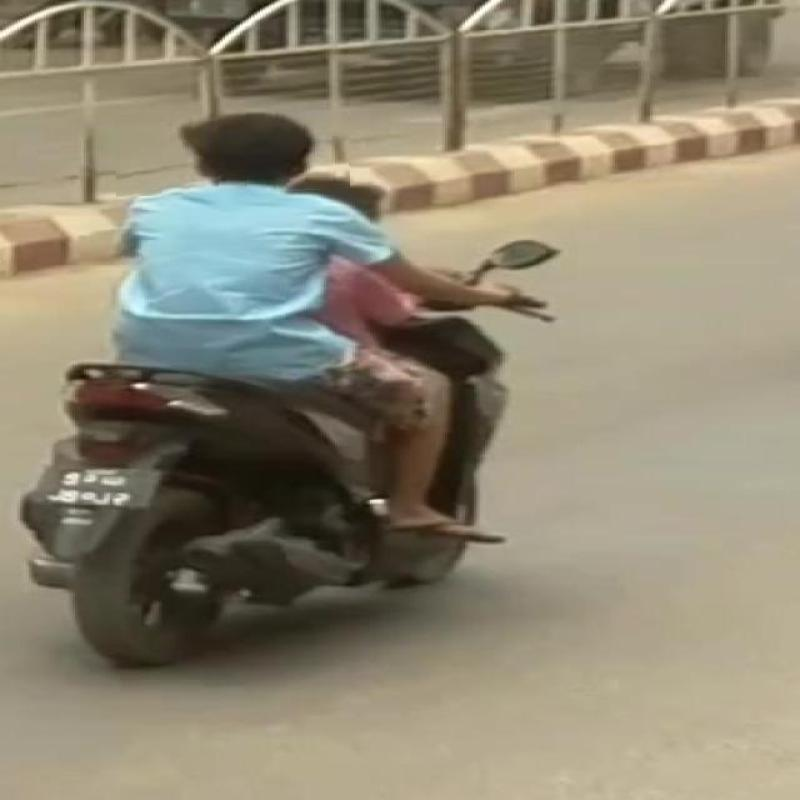nohelmet: (114, 111, 350, 195)
